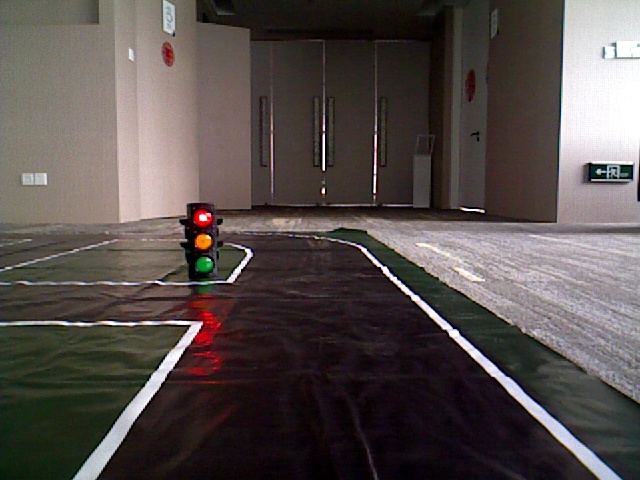red: (188, 206, 215, 273)
